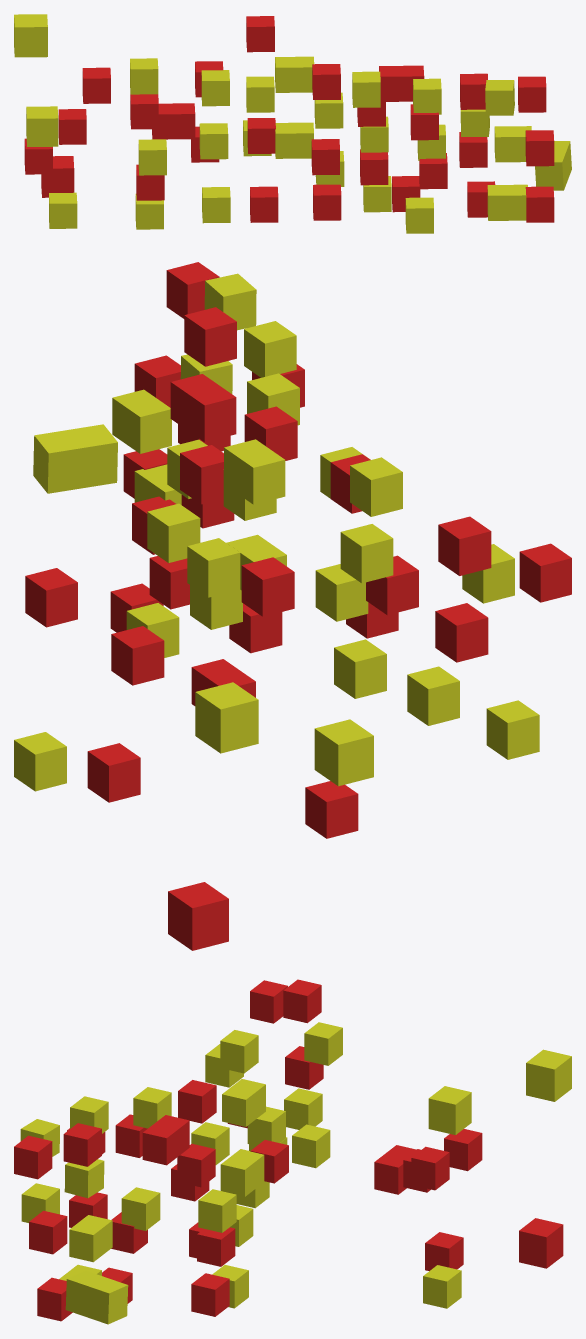
The model's file is anamorphic.glb.
3 views of the same model, one above another, from view 1: azimuth 30°, elevation 25°; view 2: azimuth 150°, elevation 25°; view 3: azimuth 270°, elevation 25° (orthographic). The views are drawn at different scales.
Visible parts, largest first — view 1: Plane, Plane.017, Plane.046, Plane.029, Plane.028, Plane.040, Plane.002, Plane.051, Plane.052, Plane.015, Plane.050, Plane.053 (+40 smaller); view 2: Plane.051, Plane, Plane.040, Plane.005, Plane.002, Plane.029, Plane.052, Plane.021, Plane.007, Plane.008, Plane.011, Plane.014 (+37 smaller); view 3: Plane.051, Plane, Plane.005, Plane.040, Plane.002, Plane.028, Plane.029, Plane.052, Plane.007, Plane.022, Plane.019, Plane.041 (+35 smaller).
Part boxes in pixels (bbox=[...]): Plane: bbox=[14, 14, 47, 57]; Plane.017: bbox=[152, 103, 195, 139]; Plane.046: bbox=[487, 184, 527, 220]; Plane.029: bbox=[275, 56, 314, 92]; Plane.028: bbox=[275, 122, 313, 158]; Plane.040: bbox=[379, 65, 424, 101]; Plane.002: bbox=[26, 106, 58, 146]; Plane.051: bbox=[535, 141, 571, 190]; Plane.052: bbox=[494, 126, 531, 162]; Plane.015: bbox=[199, 123, 228, 159]; Plane.050: bbox=[525, 130, 554, 166]; Plane.053: bbox=[485, 80, 514, 115]; Plane.051: bbox=[33, 424, 117, 493]; Plane: bbox=[195, 682, 258, 753]; Plane.040: bbox=[170, 374, 236, 442]; Plane.005: bbox=[168, 882, 228, 950]; Plane.002: bbox=[314, 719, 373, 786]; Plane.029: bbox=[224, 439, 285, 504]; Plane.052: bbox=[112, 389, 171, 453]; Plane.021: bbox=[241, 557, 294, 616]; Plane.007: bbox=[340, 524, 393, 583]; Plane.008: bbox=[438, 516, 491, 575]; Plane.011: bbox=[435, 603, 488, 662]; Plane.014: bbox=[111, 626, 164, 685]; Plane.051: bbox=[65, 1270, 128, 1324]; Plane: bbox=[526, 1049, 571, 1101]; Plane.005: bbox=[519, 1218, 563, 1268]; Plane.040: bbox=[142, 1115, 189, 1165]; Plane.002: bbox=[428, 1086, 471, 1134]; Plane.028: bbox=[220, 1149, 264, 1196]; Plane.029: bbox=[222, 1079, 265, 1126]; Plane.052: bbox=[69, 1215, 112, 1262]; Plane.007: bbox=[304, 1022, 342, 1065]; Plane.022: bbox=[423, 1265, 461, 1308]; Plane.019: bbox=[411, 1146, 449, 1190]; Plane.041: bbox=[191, 1273, 229, 1316].
Bounding box in the file's own units: 3.66 × 1.79 × 3.72.
Materials: 2 (2 with a texture image).
